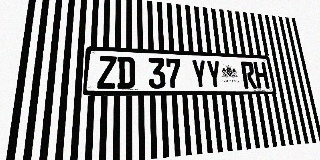3: (148, 58, 166, 89)
7: (165, 58, 182, 89)
D: (117, 56, 135, 89)
H: (253, 62, 270, 88)
R: (241, 61, 257, 88)
Y: (191, 59, 208, 89), (206, 60, 223, 89)
Z: (97, 56, 117, 89)
